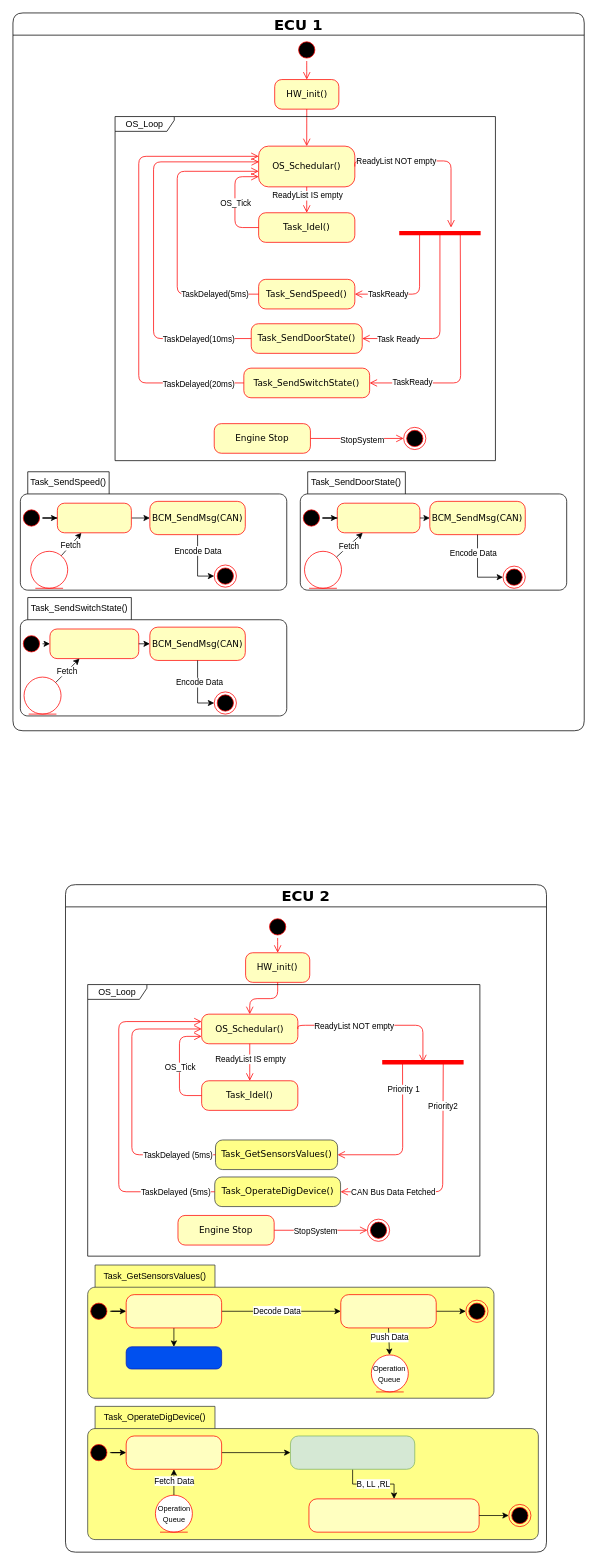
The diagram is 597 pixels wide and 1565 high, and some of its shapes have lost their labels. Each missing label, with the centre of its shape:
BCM_GetMsg(CAN): (173,1311)
CAN_Transciever: (173,1357)
Car State Variable: (49,569)
DoorState Variable: (323,569)
Fetch Operation parameters(): (173,1452)
Fetch_CarState: (94,517)
Fetch_DoorState: (378,517)
Fetch_SwitchState: (94,643)
Push Data To Operation Queue: (388,1311)
Switch State Variable: (42,695)
SysConstrains_Decision(): (352,1452)
Task_OperateDigDevice(<B,LL,RL>): (393,1515)
